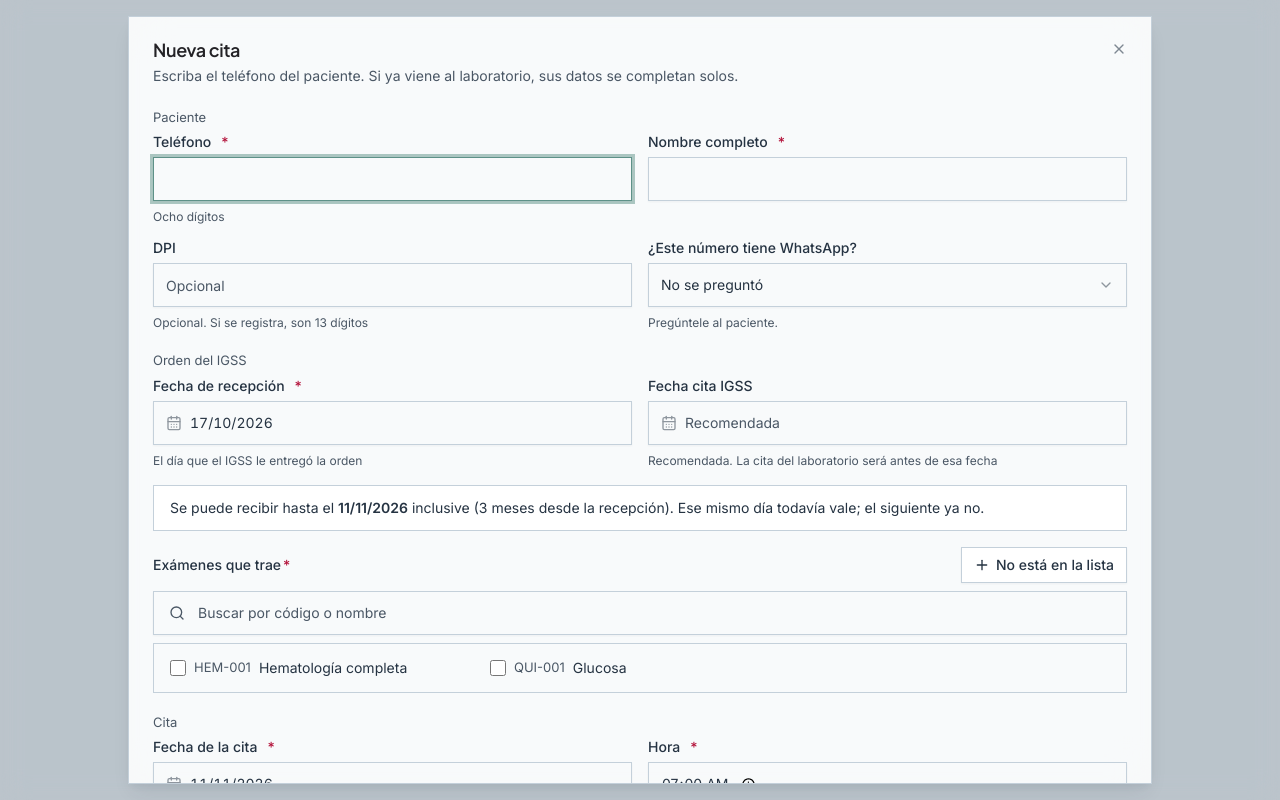
Test case: Selección de exámenes › resume los marcados aunque el buscador los oculte, y deja quitarlos
Click the checkbox labelled "QUI-001 Glucosa" at (498, 668), box x1=490 y1=660 x2=506 y2=676
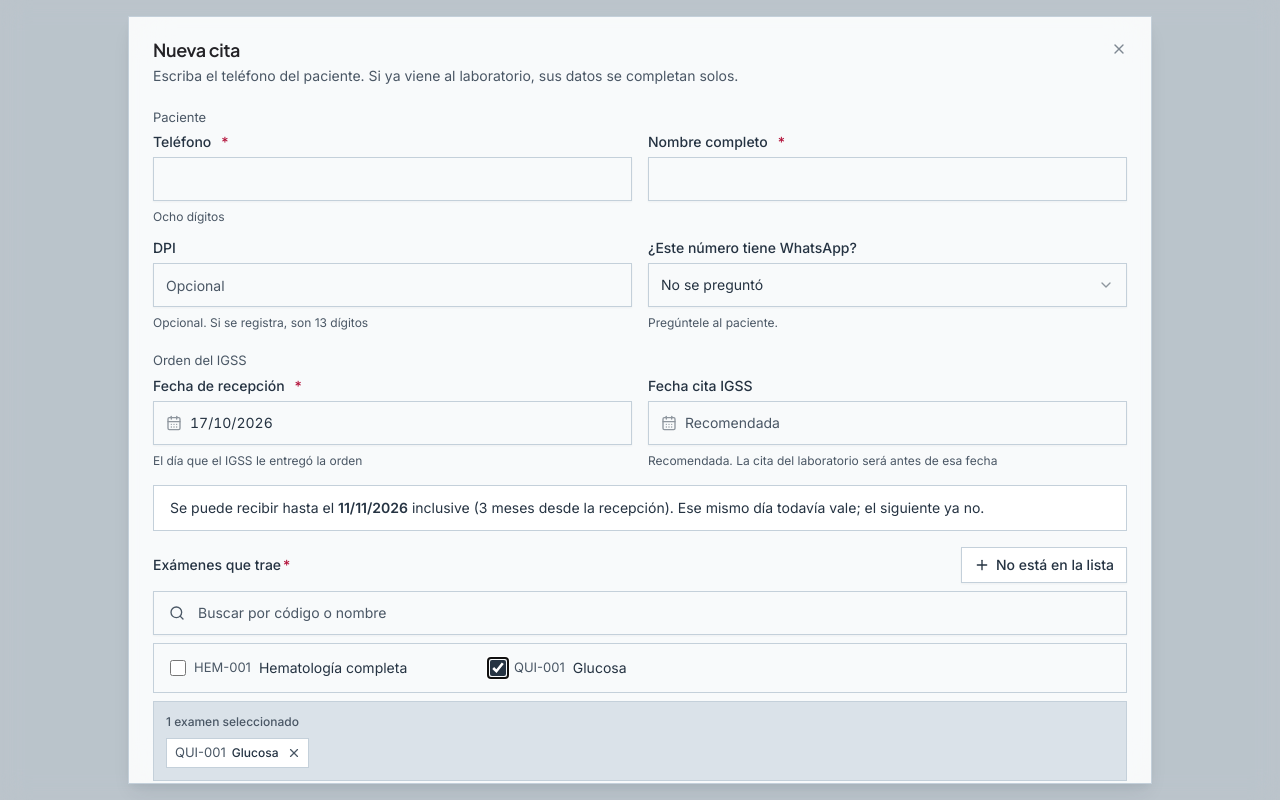
Click the checkbox labelled "HEM-001 Hematología completa" at (178, 668), box x1=170 y1=660 x2=186 y2=676
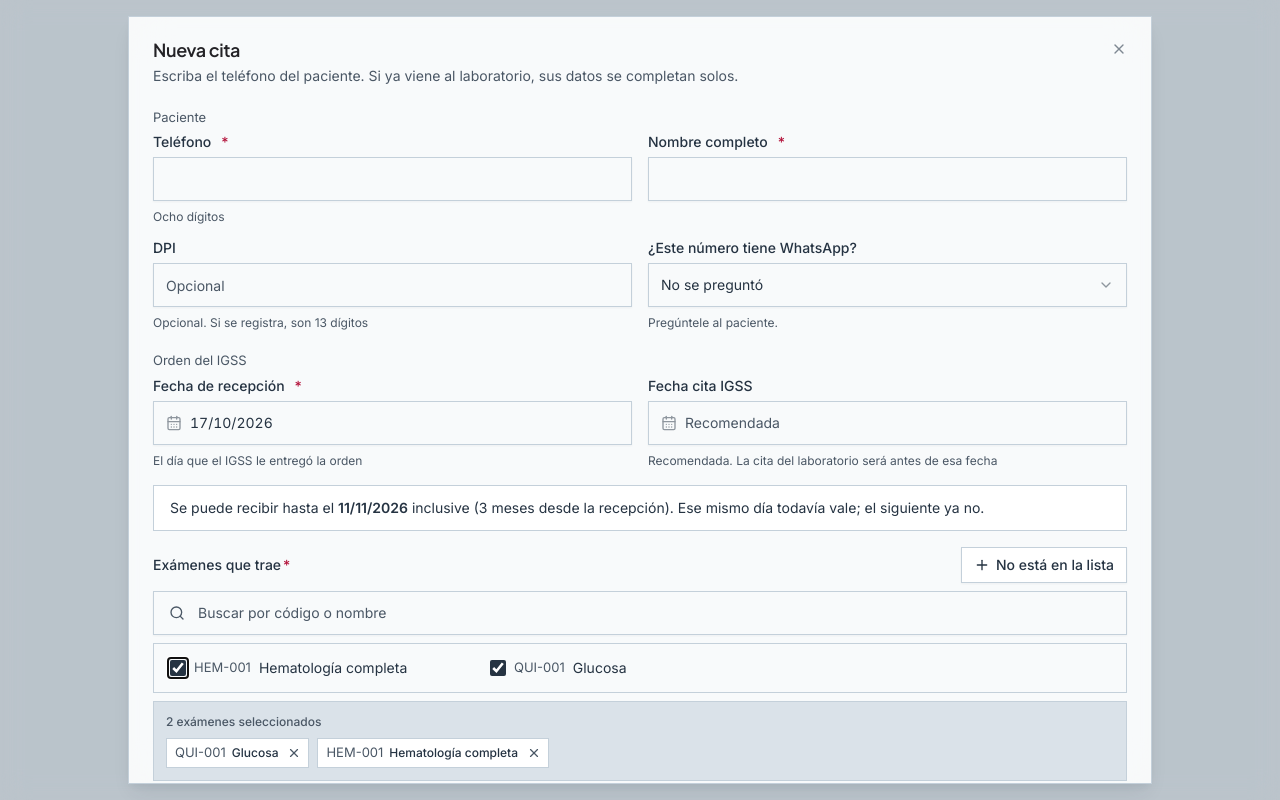
Type "hem" into the search field named "Buscar examen" at (640, 613), box x1=153 y1=591 x2=1127 y2=635
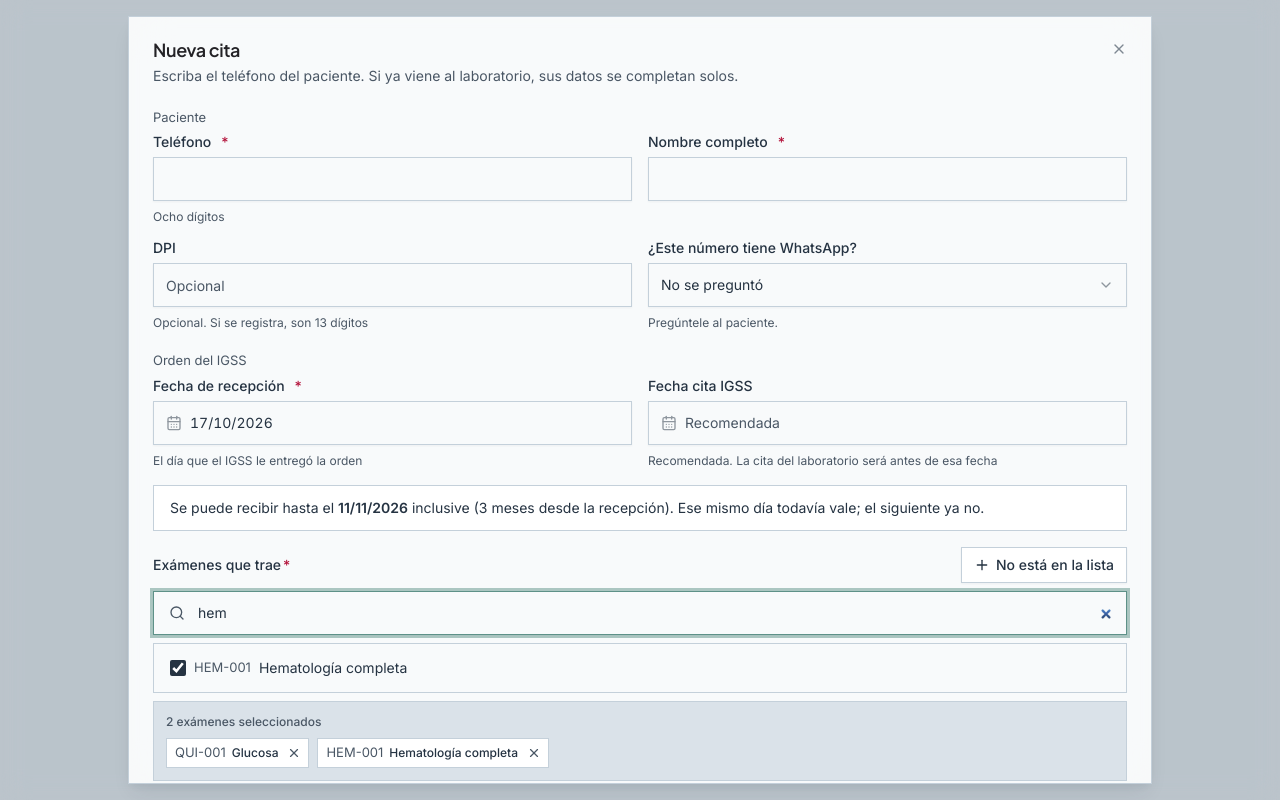
Now the text "2 exámenes seleccionados" is shown, box x1=166 y1=714 x2=321 y2=729
Now the list named "Exámenes seleccionados" shows "Glucosa", box x1=232 y1=745 x2=278 y2=760
Now the list named "Exámenes seleccionados" shows "Hematología completa", box x1=389 y1=745 x2=518 y2=760
Click the button named "Quitar Glucosa" at (294, 753), box x1=284 y1=743 x2=304 y2=763
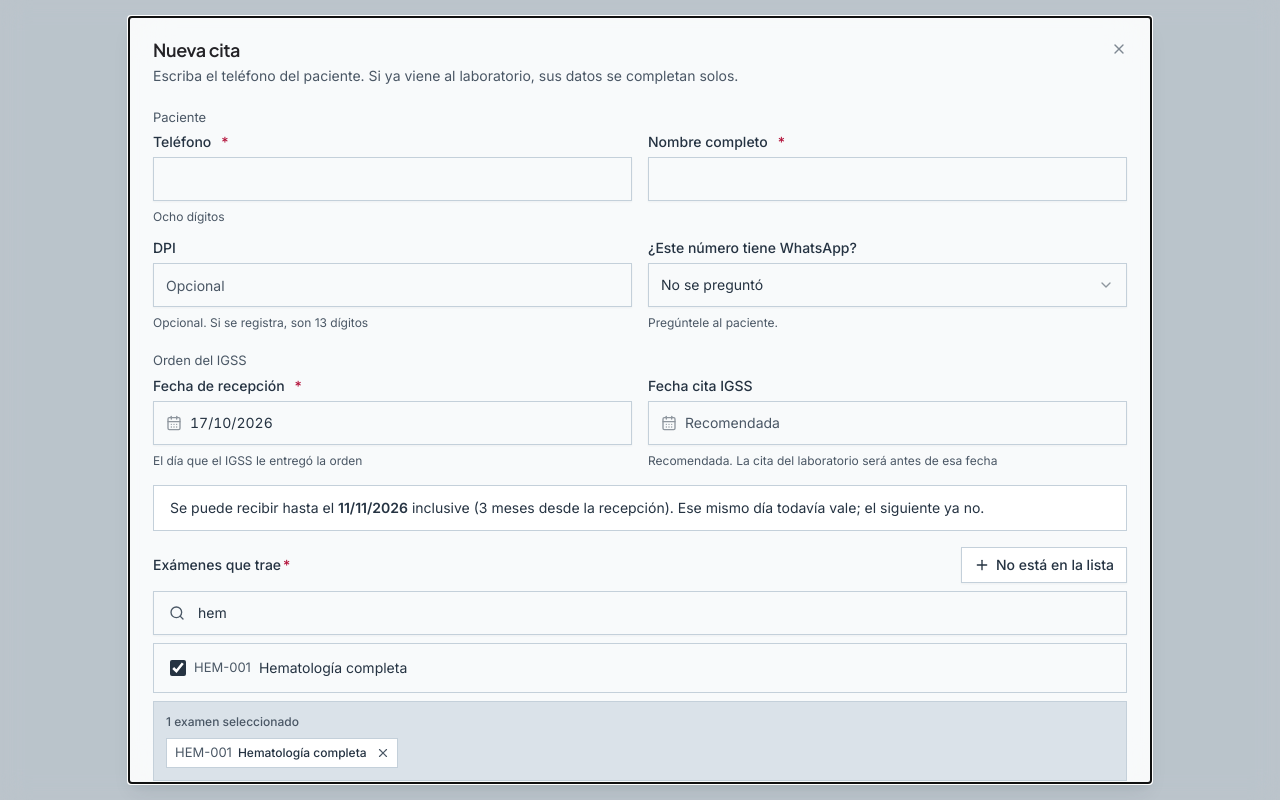
Now the text "1 examen seleccionado" is shown, box x1=166 y1=714 x2=299 y2=729
Now the list named "Exámenes seleccionados" no longer shows "Glucosa", box x1=166 y1=738 x2=398 y2=768
